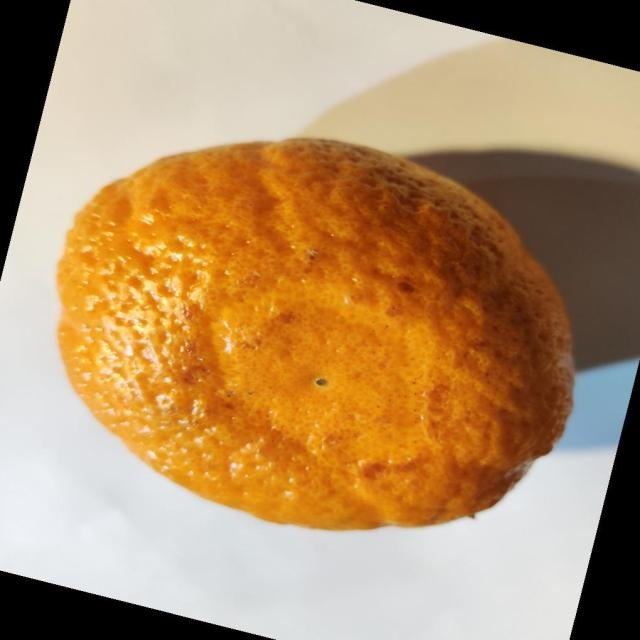agrume: (55, 136, 576, 532)
